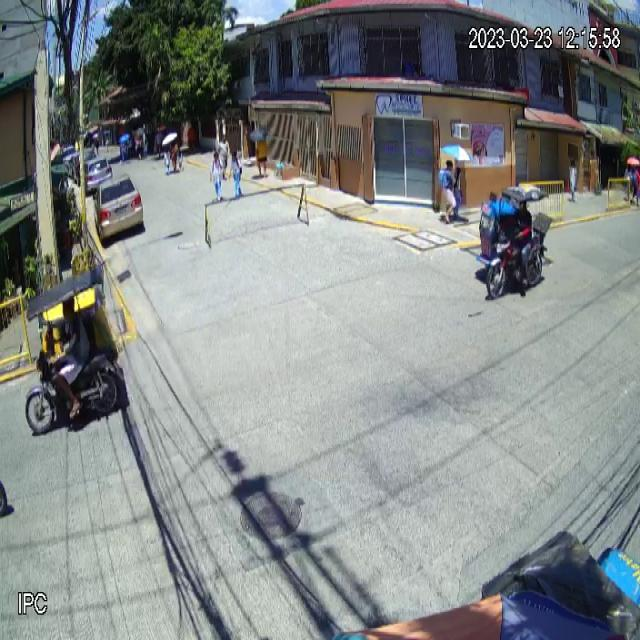Car: (94, 173, 144, 240)
Tricycle: (25, 266, 127, 437), (476, 185, 554, 300)
